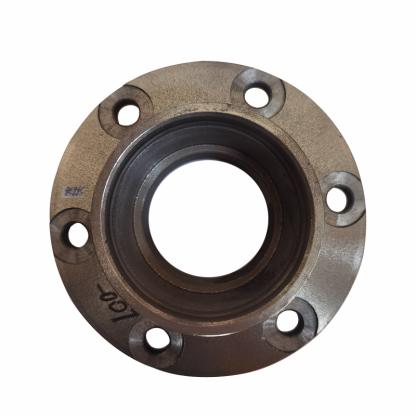FOD: (44, 58, 374, 382)
